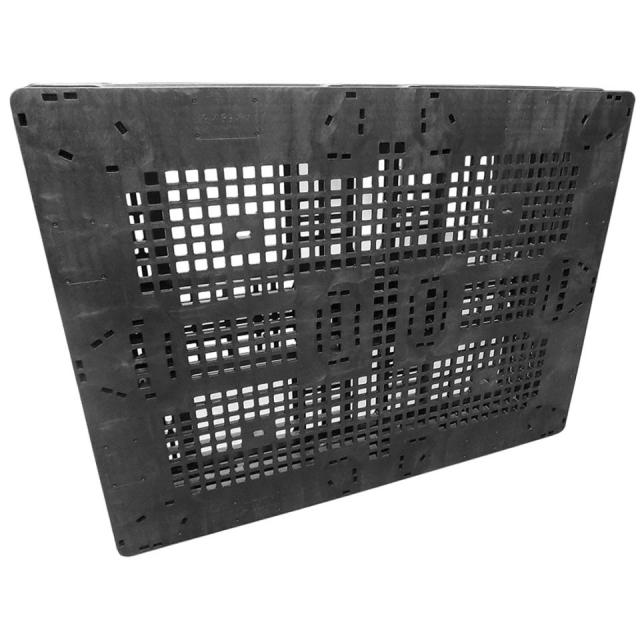non-igps: (8, 78, 640, 560)
